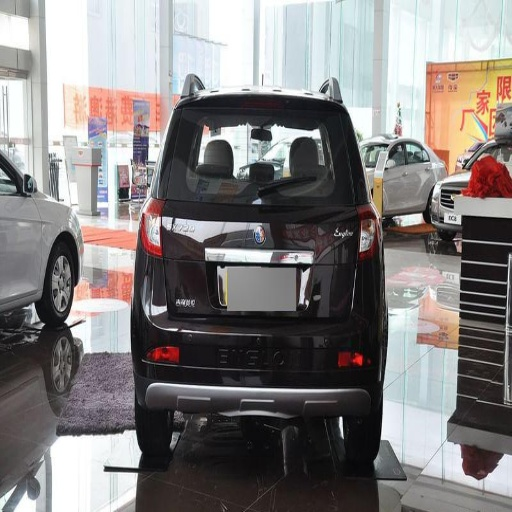back_bumper: (130, 282, 384, 442)
tailgate: (166, 225, 354, 333)
trunk: (162, 202, 358, 288), (151, 278, 245, 335)
